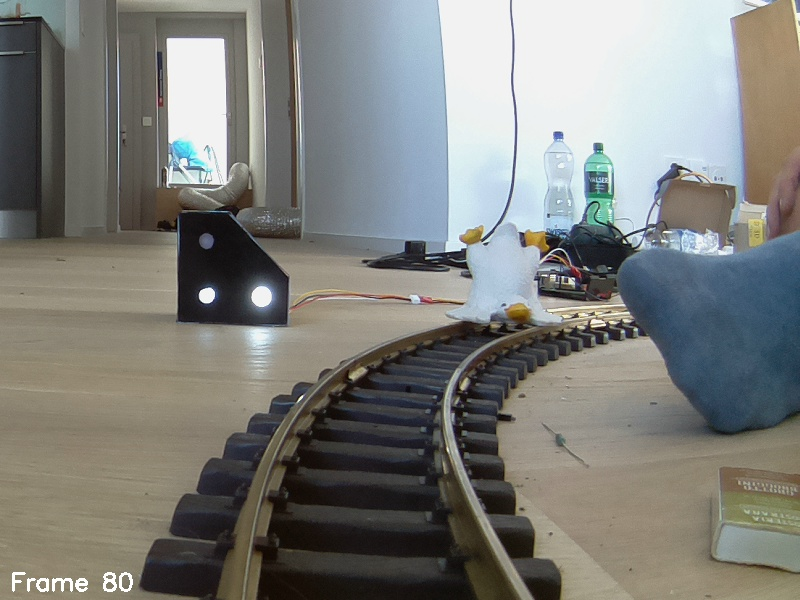Ente: (446, 221, 566, 333)
Halt: (177, 212, 288, 326)
